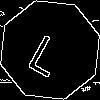L: (25, 25, 72, 78)
